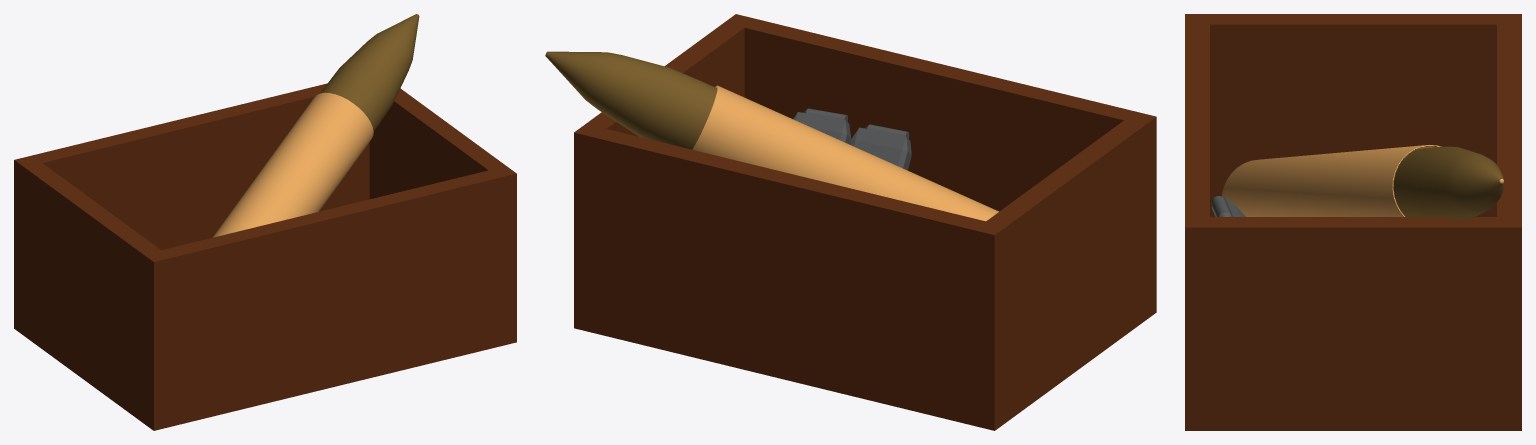
The model's file is better_Ammo.fbx.
The picture shows the model from 3 angles, left to right: view 1: azimuth 30°, elevation 25°; view 2: azimuth 150°, elevation 25°; view 3: azimuth 270°, elevation 25°; orthographic projection. The views are drawn at different scales.
Visible parts, largest first — view 1: Cube, Cylinder.004; view 2: Cube, Cylinder.004, Cylinder.003, Cylinder; view 3: Cube, Cylinder.004, Cylinder.003.
Part boxes in pixels (bbox=[...]): Cube: bbox=[14, 83, 516, 430]; Cylinder.004: bbox=[213, 14, 419, 237]; Cube: bbox=[574, 14, 1156, 430]; Cylinder.004: bbox=[545, 51, 998, 221]; Cylinder.003: bbox=[849, 124, 911, 170]; Cylinder: bbox=[793, 108, 851, 144]; Cube: bbox=[1185, 14, 1521, 430]; Cylinder.004: bbox=[1221, 145, 1503, 219]; Cylinder.003: bbox=[1211, 196, 1245, 216].
Size of the model in its own units: 393 by 213 by 240.
